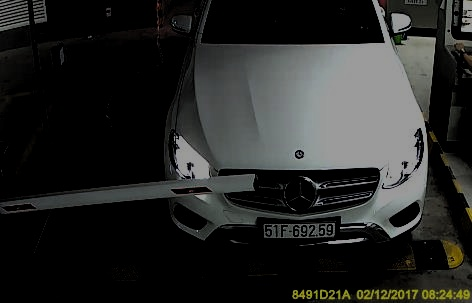plate: (262, 218, 339, 242)
